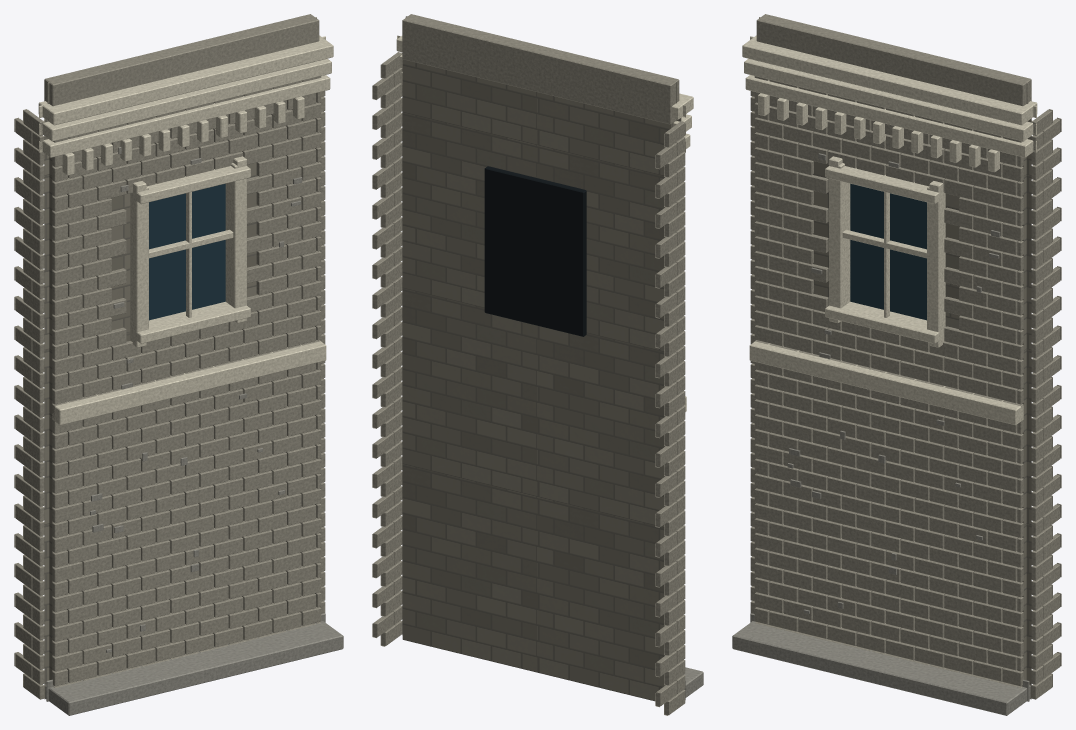
Rendered from WRHS7_lod0.glb.
The picture shows the model from 3 angles, left to right: view 1: azimuth 30°, elevation 25°; view 2: azimuth 150°, elevation 25°; view 3: azimuth 330°, elevation 25°; orthographic projection.
Visible parts, largest first — view 1: WRHS7_FRONT_LOD0; view 2: WRHS7_FRONT_LOD0; view 3: WRHS7_FRONT_LOD0.
Boxes of the visible parts, left/top/right/bottom form: WRHS7_FRONT_LOD0: left=14, top=14, right=343, bottom=715; WRHS7_FRONT_LOD0: left=372, top=14, right=703, bottom=715; WRHS7_FRONT_LOD0: left=732, top=14, right=1061, bottom=715.
Bounding box in the file's own units: 3.44 × 7.05 × 1.02.
Materials: 9 (7 with a texture image).
